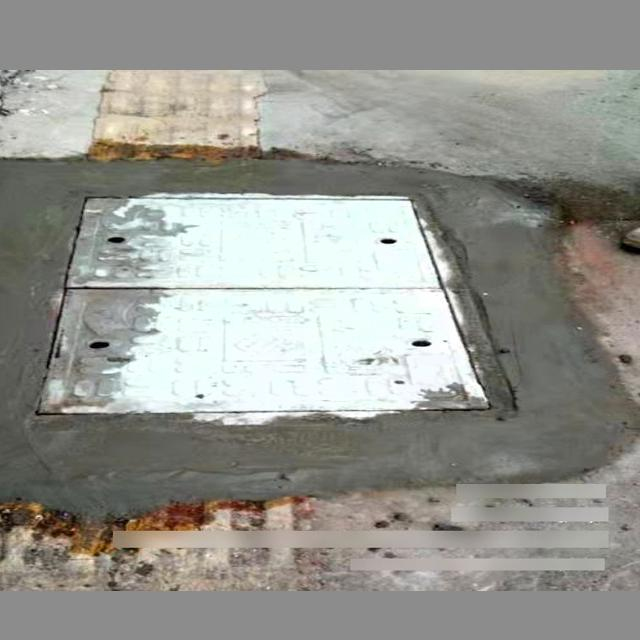good: (27, 192, 517, 422)
